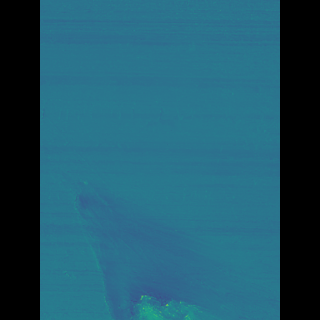Loch: (135, 267, 198, 319)
